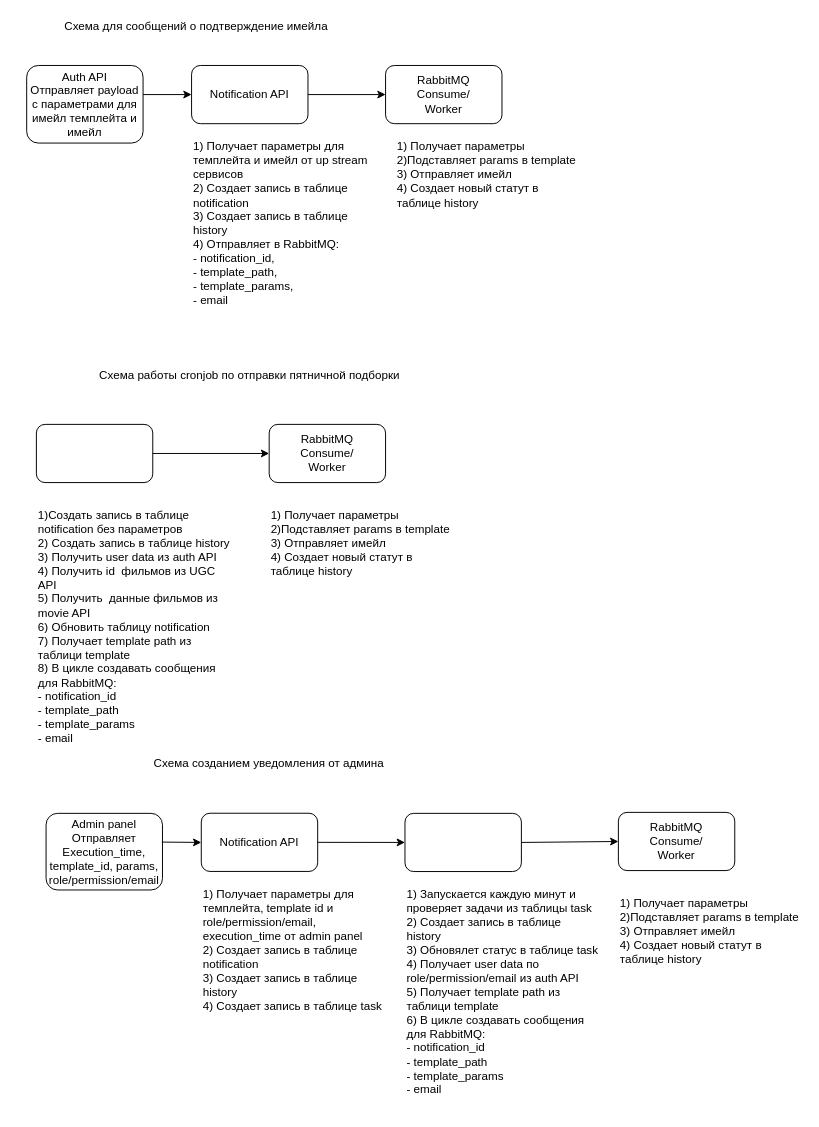
The diagram is 819 pixels wide and 1127 high, and some of its shapes have lost their labels. Each missing label, with the box of its shape:
Admin cron: (404, 812, 521, 872)
CronJob: (35, 423, 153, 483)
